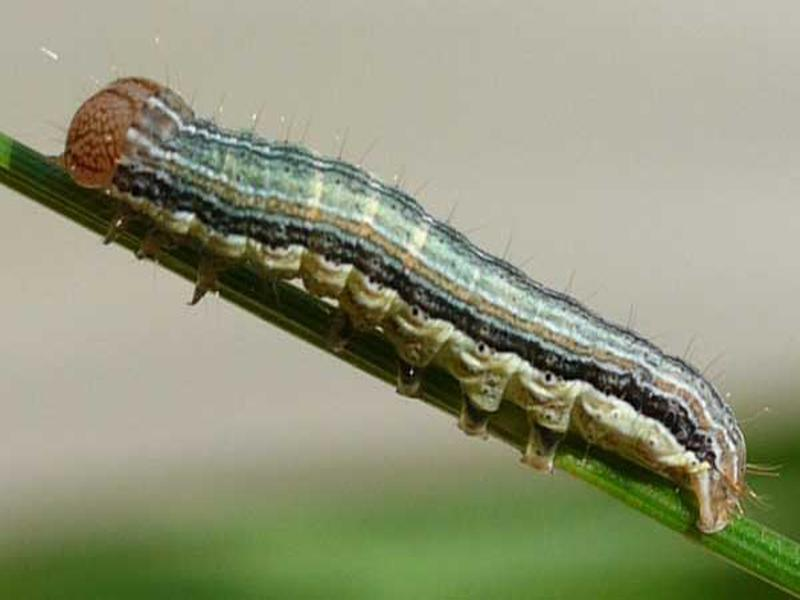Armyworms: (51, 69, 771, 543)
